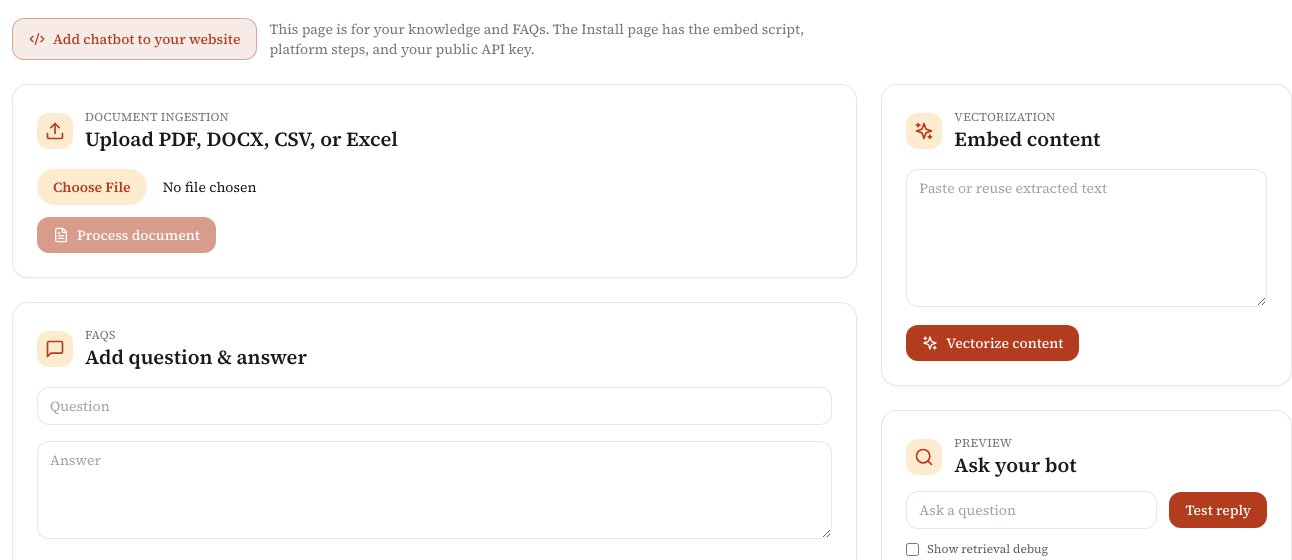
Test: ChatbotBuilder preview › displays fallback production preview without crashing
The image size is (1292, 560).
Type "unknown" into the field with placeholder "Ask a question" at coordinates (1032, 510), box x1=906 y1=491 x2=1157 y2=529
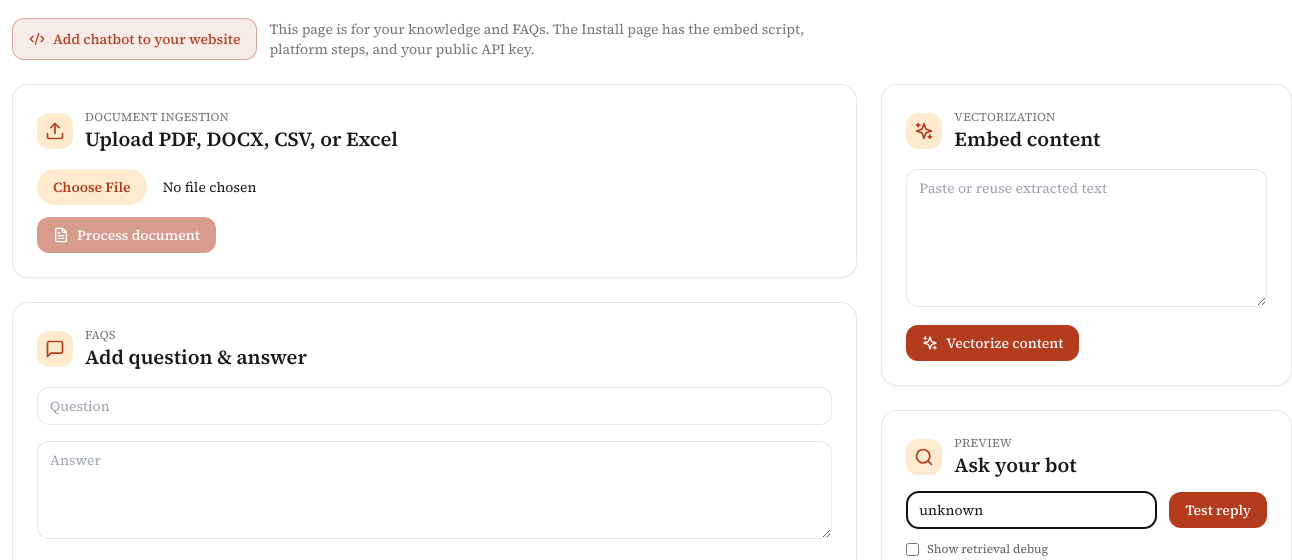
Click the button "Test reply" at coordinates (1218, 510), box x1=1169 y1=492 x2=1267 y2=528
(page scrolled)
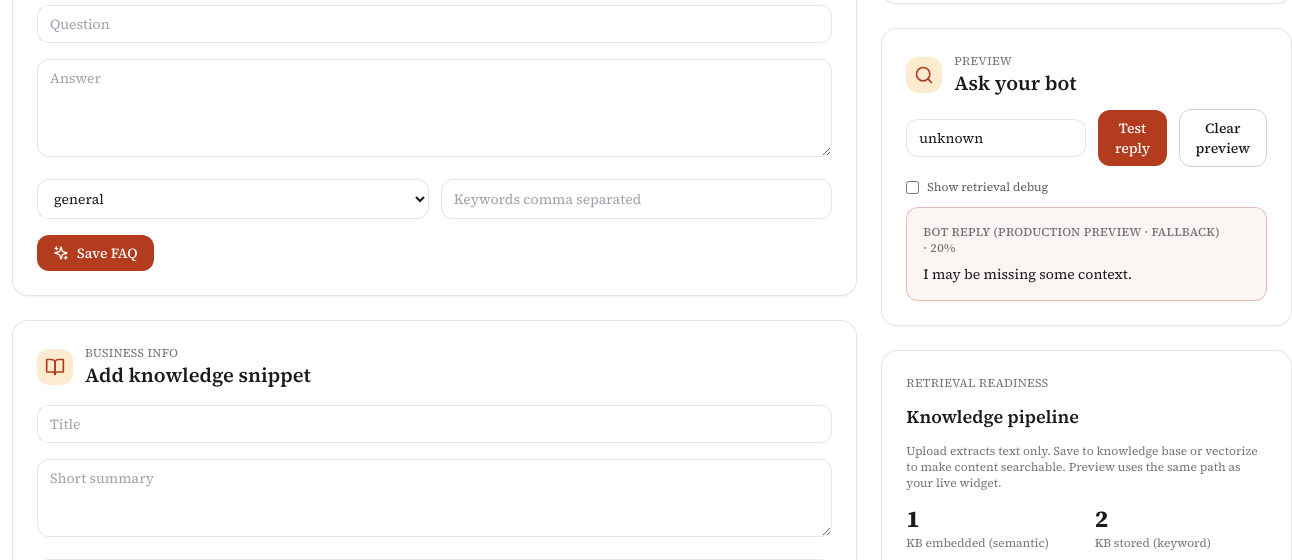
Now the text "Bot reply (Production preview · fallback) · 20%" is shown, box x1=923 y1=224 x2=1250 y2=256
Now the text "I may be missing some context." is shown, box x1=923 y1=264 x2=1132 y2=284
